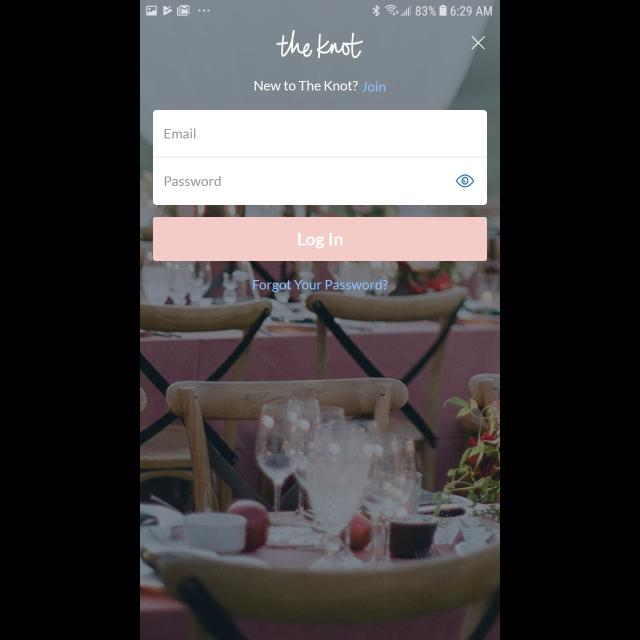backgroundimage: (140, 18, 500, 640)
icon: (456, 175, 474, 188), (471, 36, 485, 50)
image: (276, 29, 364, 59)
input: (154, 110, 486, 158), (154, 157, 486, 205)
text: (254, 280, 388, 292), (254, 80, 358, 92), (165, 177, 221, 187), (164, 129, 196, 139), (362, 81, 386, 92)
textbutton: (153, 217, 487, 261)
uppertaskbar: (140, 1, 500, 18)
